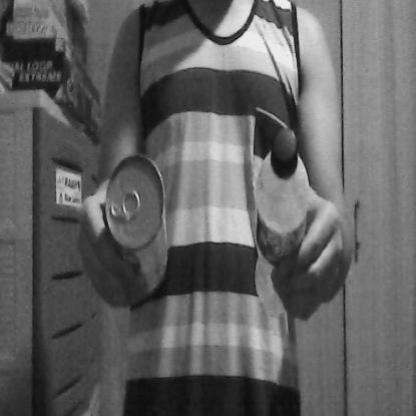Plastic Bottle: (237, 115, 320, 332)
